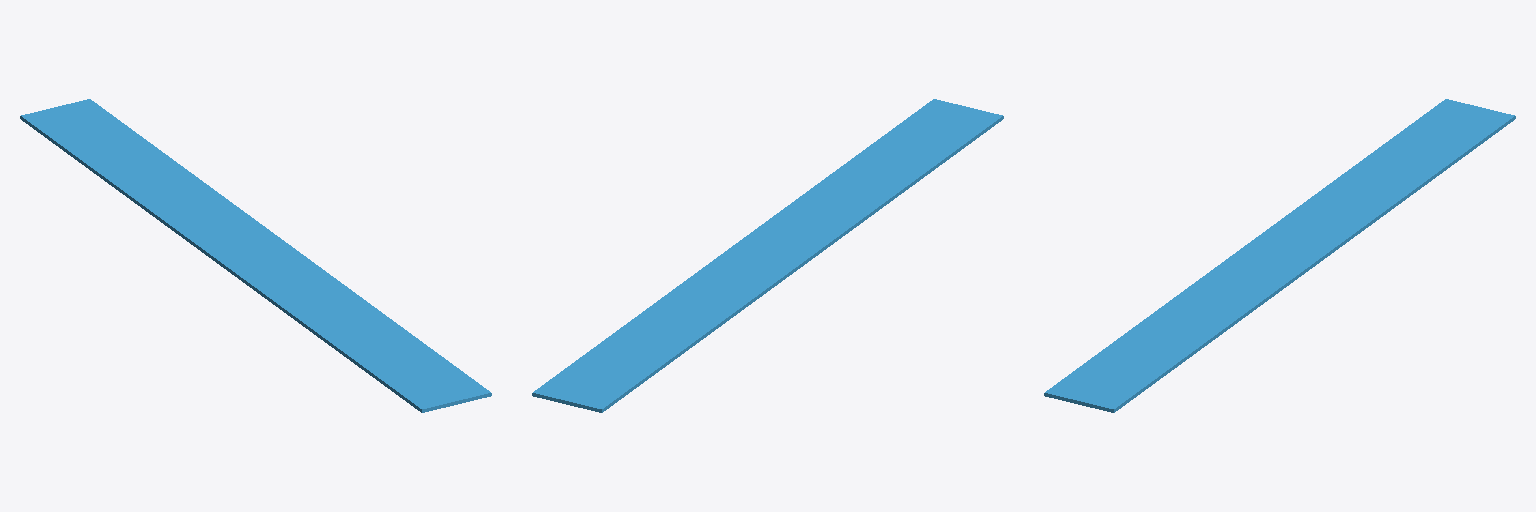
The robot description file, URDF, robot "tricycle_model":
<?xml version="1.0" ?>

<robot name="tricycle_model">
  <link name="base_dummy">
  </link>

  <joint name="base_link_joint" type="fixed">
    <origin rpy="0 0 0" xyz="0 0 0"/>
    <parent link="base_dummy"/>
    <child link="Chassis"/>
  </joint>

  <link name="Chassis">
    <inertial>
      <origin rpy="0 0 0" xyz="0 0 0"/>
      <mass value="100"/>
      <inertia ixx="10" ixy="0" ixz="0" iyy="10" iyz="0" izz="10"/>
    </inertial>
    <collision>
      <geometry>
        <box size="0.1 1 0.005"/>
      </geometry>
      <origin rpy="0 0 0" xyz="0 0 0"/>
    </collision>
    <visual>
      <geometry>
        <box size="0.1 1 0.005"/>
      </geometry>
      <origin rpy="0 0 0" xyz="0 0 0"/> 
    </visual>
  </link>


</robot>

--- Facts derived from the render (not from the file) ---
Views: 3 orthographic renders of the robot side by side, from view 1: azimuth 30°, elevation 25°; view 2: azimuth 150°, elevation 25°; view 3: azimuth 330°, elevation 25°.
Model tricycle_model with 2 links and 1 joints (1 fixed), rooted at base_dummy, posed every joint at zero.
Links seen in each view (by area): view 1: Chassis; view 2: Chassis; view 3: Chassis.
Boxes of the visible links, left/top/right/bottom form: Chassis: left=20, top=99, right=491, bottom=412; Chassis: left=532, top=99, right=1003, bottom=412; Chassis: left=1044, top=99, right=1515, bottom=412.
Bounding box of the posed robot: 0.1 × 1 × 0.005 m (x, y, z).
Geometry: primitives only (box / cylinder / sphere), no mesh files.